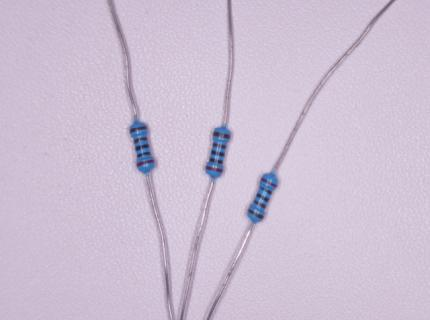Black band: (256, 193, 270, 203), (259, 185, 272, 195), (209, 157, 223, 165), (136, 143, 149, 151), (137, 151, 151, 158), (211, 150, 225, 157)
Brown band: (247, 209, 264, 220), (129, 125, 148, 134), (213, 131, 231, 139), (253, 199, 267, 209), (133, 136, 148, 145), (212, 142, 227, 149)
Red band: (260, 176, 277, 188), (136, 159, 155, 167), (206, 166, 223, 173)
